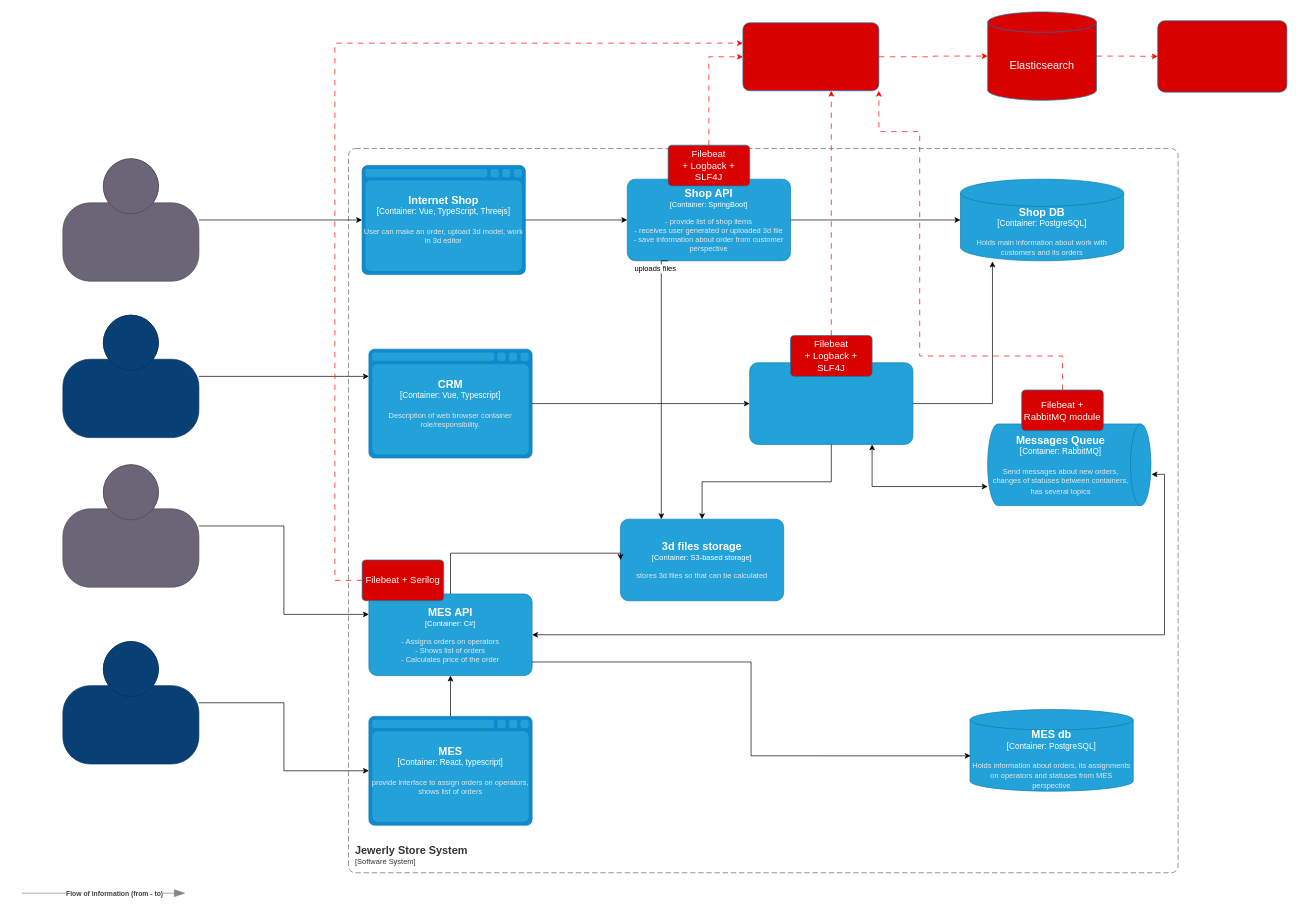
Some shapes in this 1299 by 916 pixel diagram are drawn without their labels. The shapes that lost their labels are listed below. From the top down, each one's centre as x and y in pixels, then its label:
(810,56): Logstash
(1222,56): Kibana
(130,219): Customer [Person] Description of external person.
(130,376): Seller [Person] Operates with order, confirms manufacturing for the user
(831,403): CRM API [Container: SpringBoot] Description of container role/responsibility.
(130,525): API user [Person] Description of external person.
(130,702): Operator [Person] Takes order in work, manufactures jewerly
